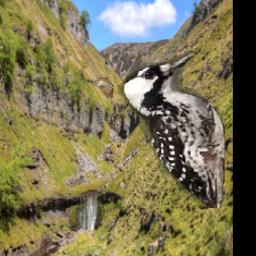Cuckoo: (84, 78, 115, 99)
Woodpecker: (118, 51, 225, 209)
